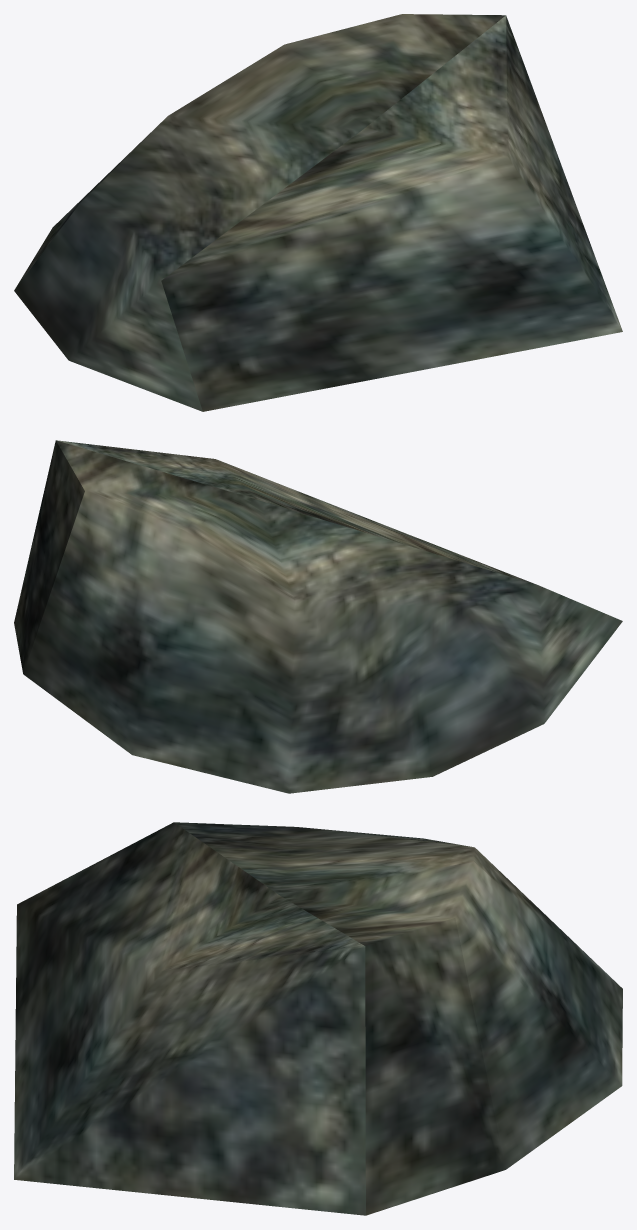
The model's file is pir_m_are_isl_rockMed_worldmap.fbx.
3 renders of one model, top to bottom at view 1: azimuth 30°, elevation 25°; view 2: azimuth 150°, elevation 25°; view 3: azimuth 270°, elevation 25°, orthographic. The views are drawn at different scales.
Parts seen in each view (by area): view 1: top_mesh; view 2: top_mesh; view 3: top_mesh.
Boxes of the visible parts, bbox=[...] form: top_mesh: bbox=[14, 14, 622, 411]; top_mesh: bbox=[14, 440, 622, 793]; top_mesh: bbox=[14, 822, 622, 1215].
Size of what is drawn, in the model's own units: 1.88 by 0.7128 by 1.58.
1 material, 1 textured.
